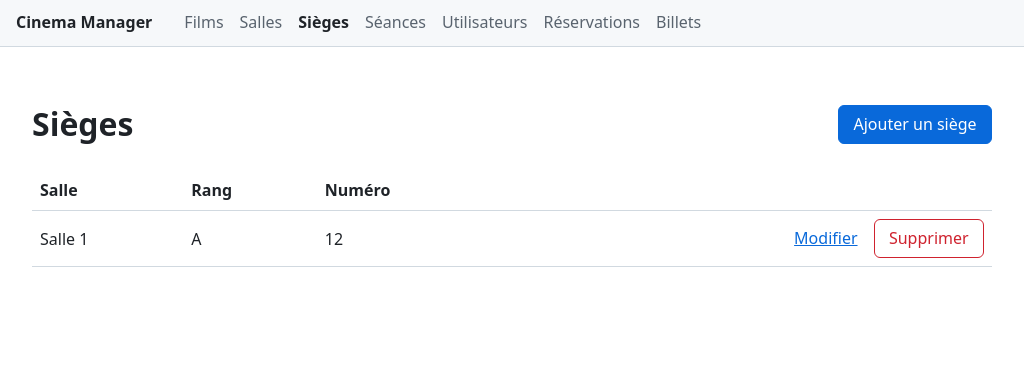
Test: SeatsPage › explains why a seat with tickets cannot be deleted
The image size is (1024, 366).
Step 1. Click the button "Supprimer" → (929, 238), box 874,219 -> 984,258
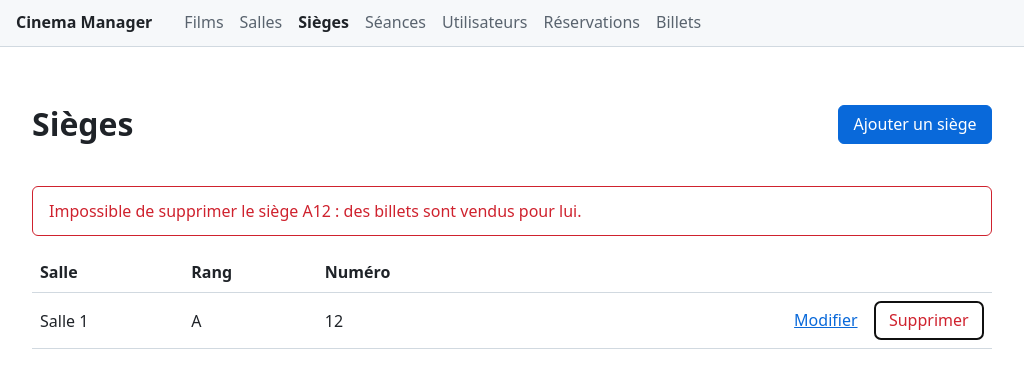
Expected: the message reads "Impossible de supprimer le siège A12 : des billets sont vendus pour lui.", 49,200 -> 582,222
